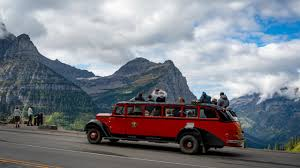bus: (86, 99, 246, 156)
